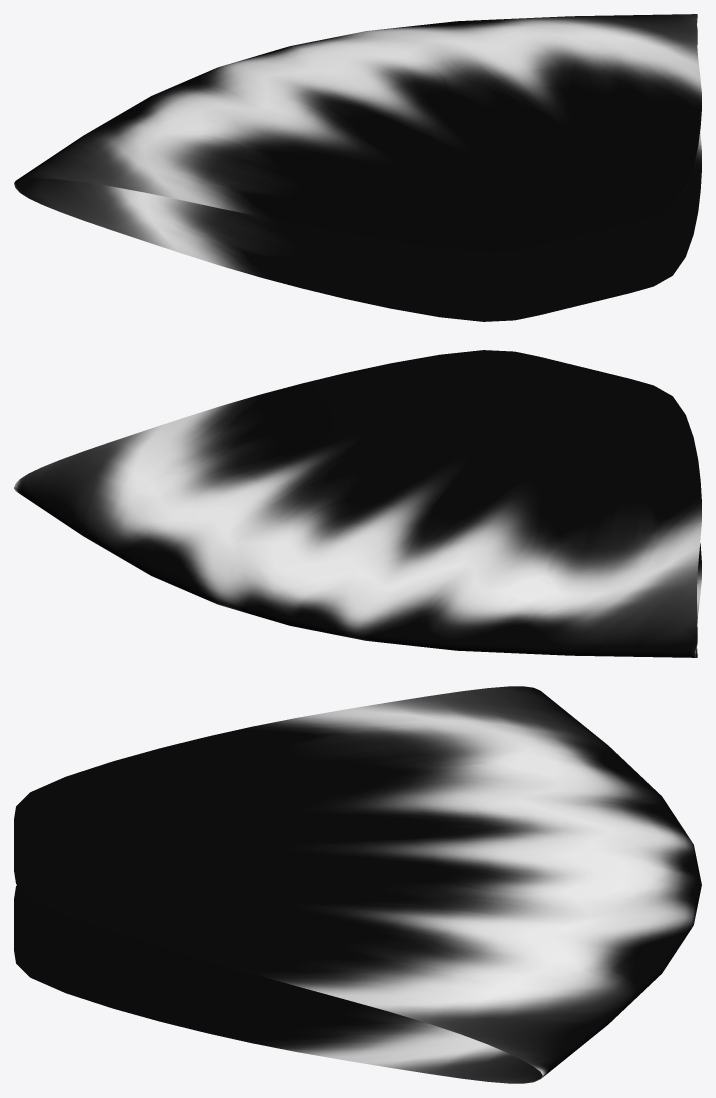
Rendered from Weapon Slash.fbx.
3 views of the same model, one above another, from view 1: azimuth 30°, elevation 25°; view 2: azimuth 150°, elevation 25°; view 3: azimuth 270°, elevation 25° (orthographic). The views are drawn at different scales.
Visible parts, largest first — view 1: Cylinder; view 2: Cylinder; view 3: Cylinder.
Boxes of the visible parts, box(x1,y1,x2,y2) form: Cylinder: box(14, 14, 701, 321); Cylinder: box(14, 350, 701, 657); Cylinder: box(14, 686, 701, 1083).
Bounding box in the file's own units: 1038 × 101 × 792.
